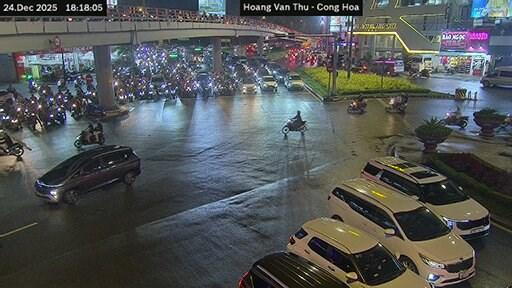motorbike: (73, 130, 103, 147), (281, 118, 307, 133), (441, 112, 467, 124), (384, 98, 406, 112), (0, 143, 22, 156), (85, 103, 105, 116), (26, 111, 37, 130), (348, 99, 364, 112), (499, 112, 511, 129), (70, 102, 82, 118), (28, 79, 38, 91)
